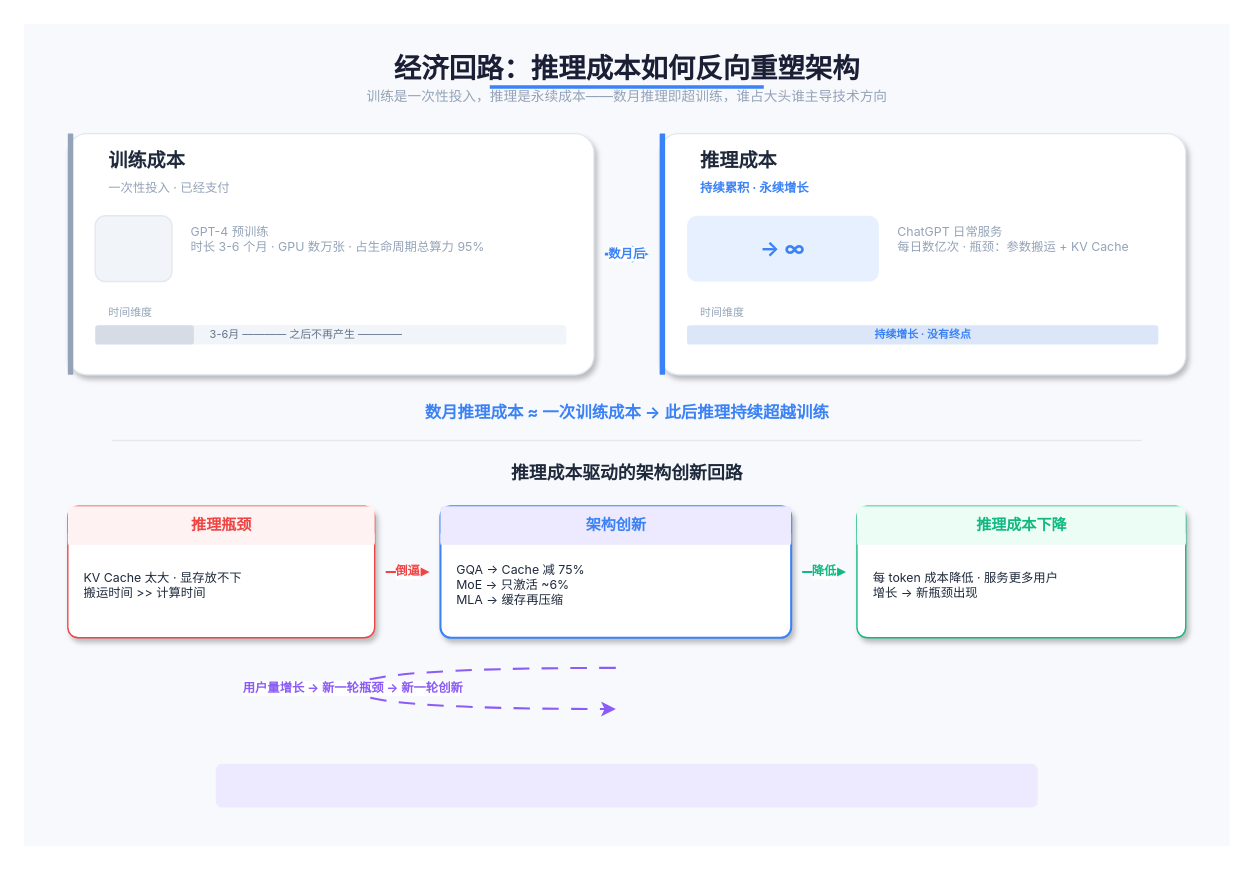
The diagram is 1252 pixels wide and 869 high, and some of its shapes have lost their labels. Here are the shapes that lost their labels. From the top down, the centre of each, then its label:
the point at 133,248: $1亿
the point at 626,785: 驱动力重心：训练成本 → 推理成本。谁占总成本更多，谁主导技术方向
